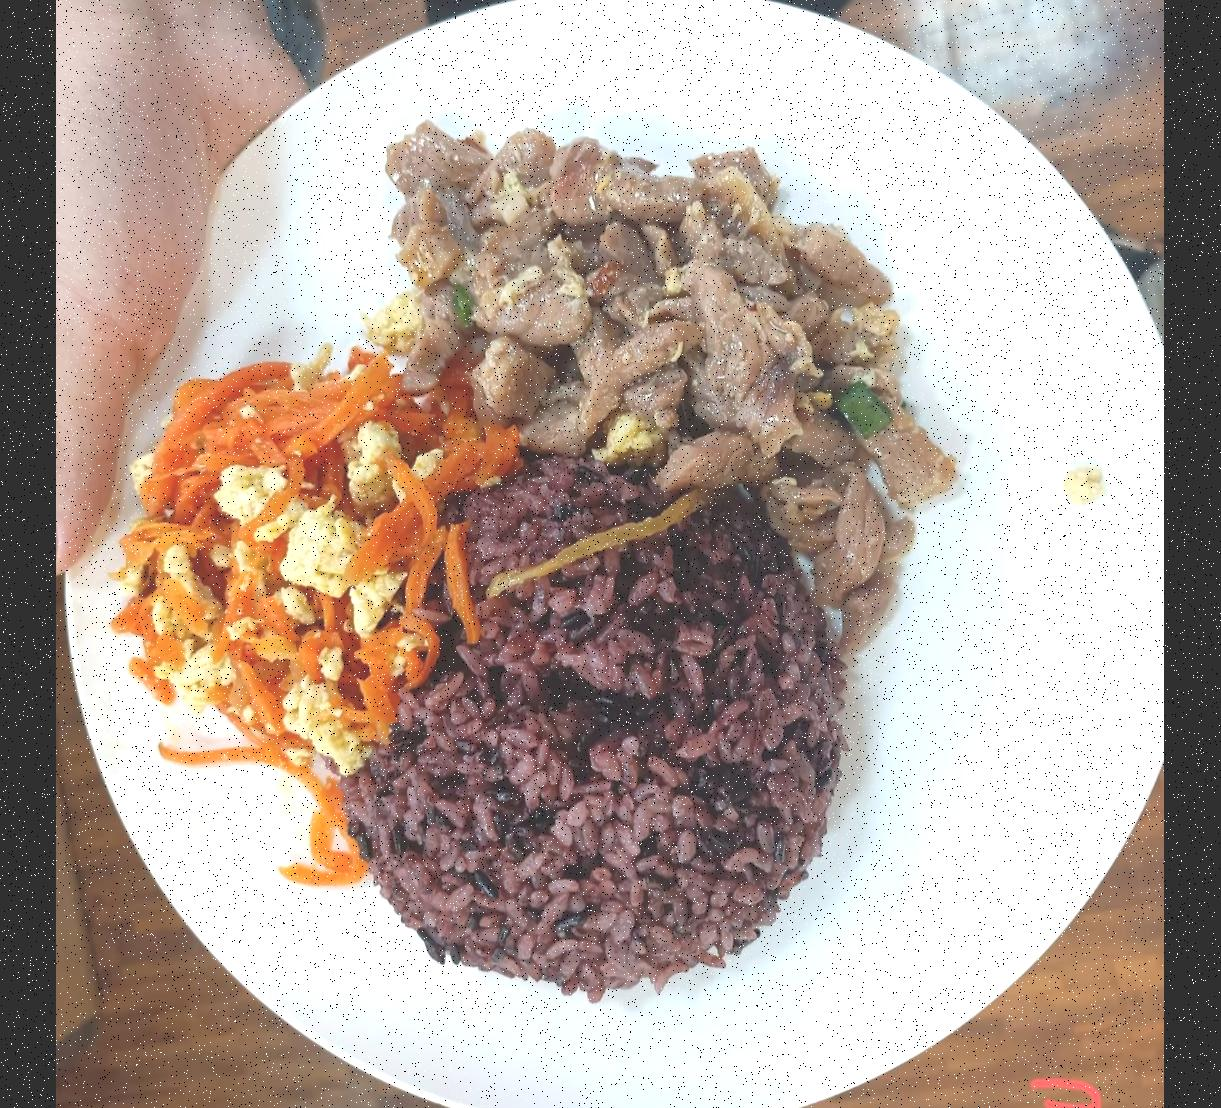plate: (84, 0, 1160, 1108)
pork with scrambled eggs: (409, 94, 935, 487)
purple rice: (385, 451, 833, 984)
side dish: (137, 331, 407, 791)
